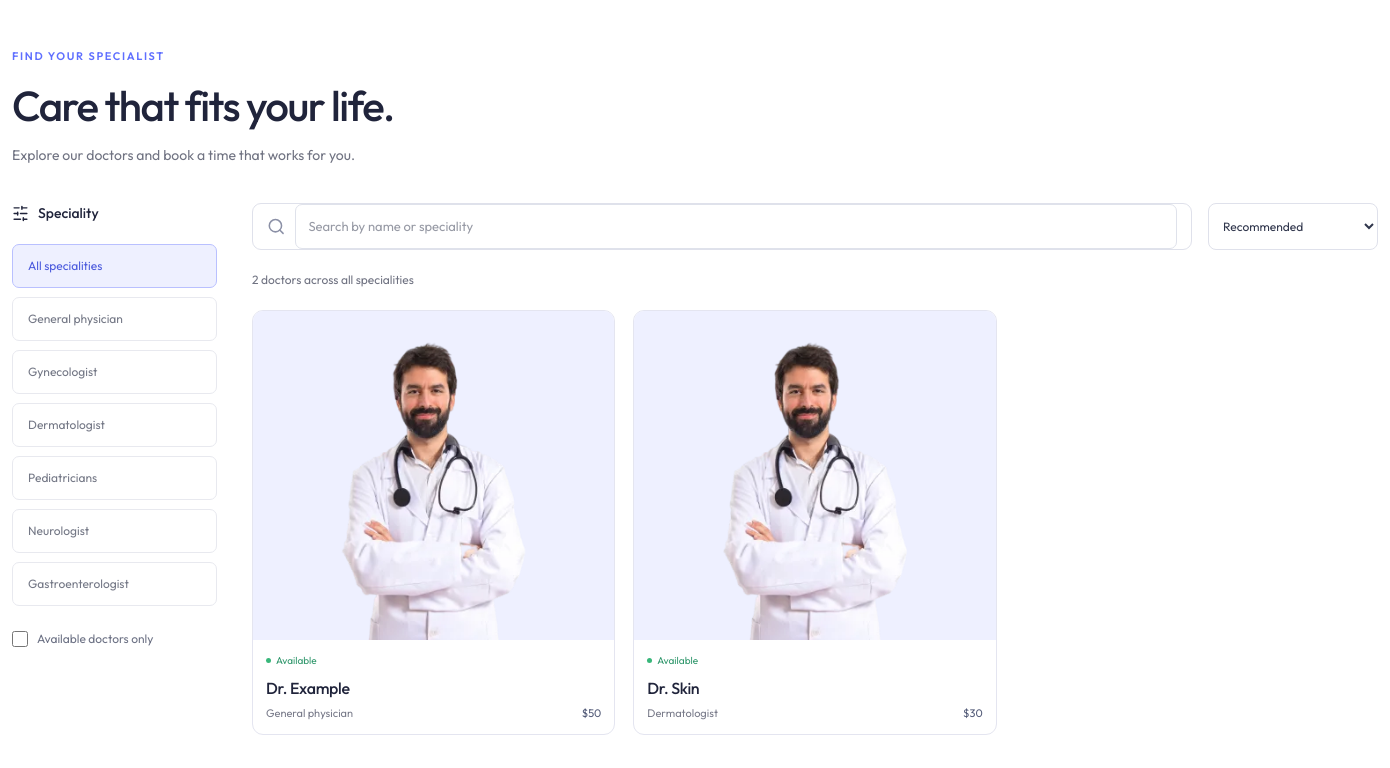
Test: doctor discovery components › filters by speciality and displays the matching result
Click the button "Dermatologist".
click(114, 425)  # box left=12, top=403, right=217, bottom=447
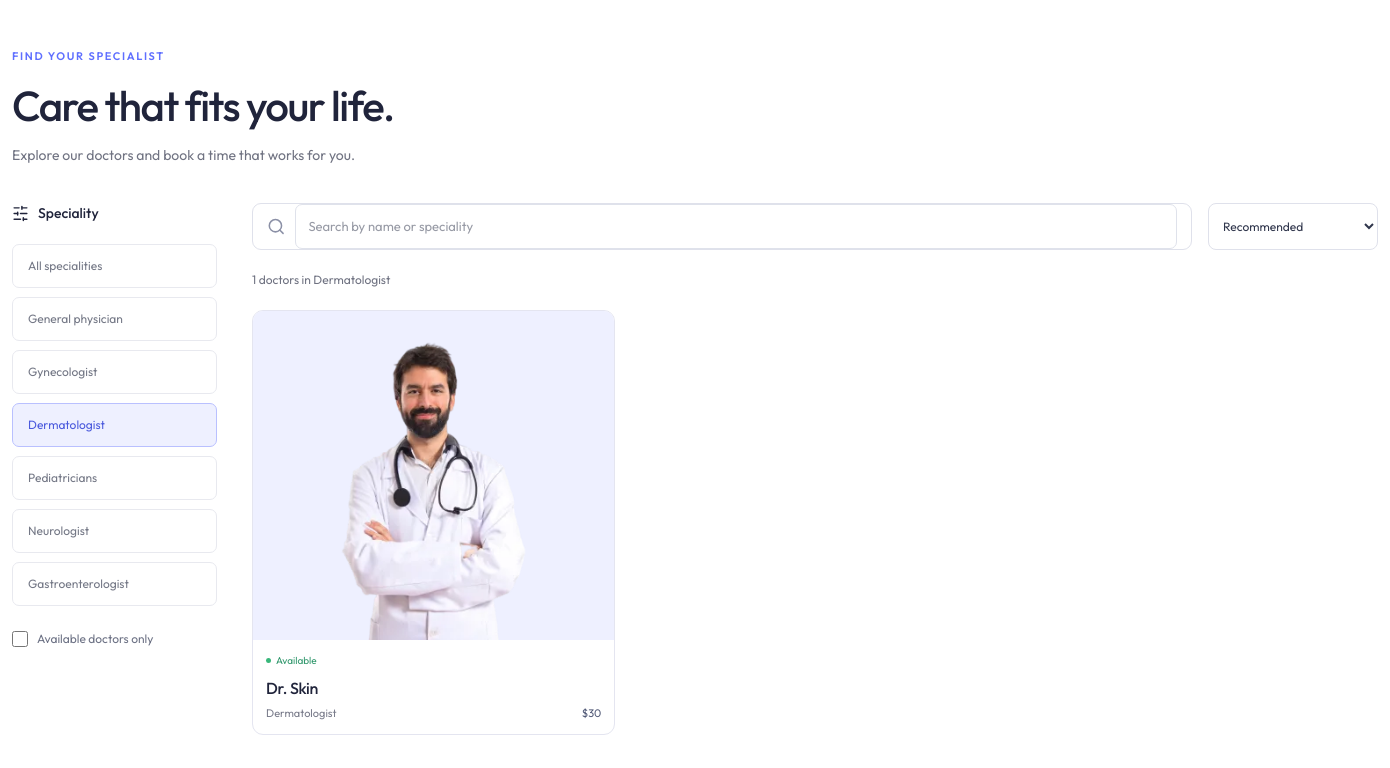
Expected: the heading "Dr. Skin" is shown, left=266, top=678, right=318, bottom=698
Result: the link "Dr. Example" is gone
